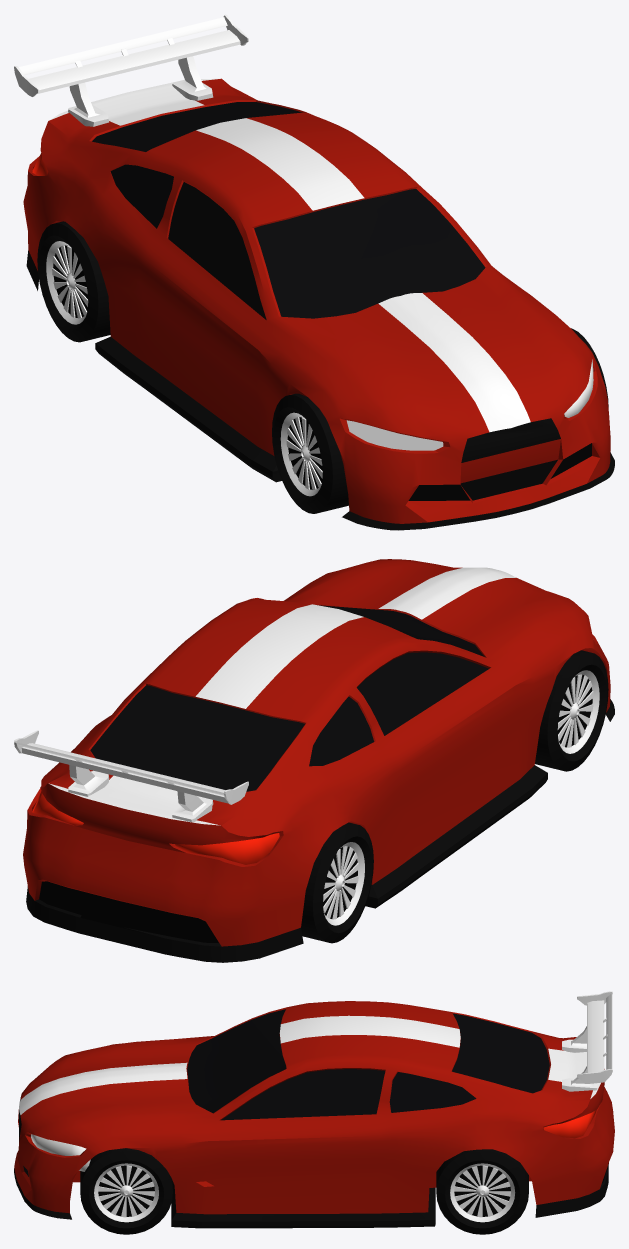
File: m4 ezgi (1).fbx
3 renders of one model, top to bottom at view 1: azimuth 30°, elevation 25°; view 2: azimuth 150°, elevation 25°; view 3: azimuth 270°, elevation 25°, orthographic. The views are drawn at different scales.
Visible parts, largest first — view 1: Cube.001, Cylinder.002, Cylinder.001; view 2: Cube.001, Cylinder.001, Cylinder.002; view 3: Cube.001, Cylinder.004, Cylinder.003.
Part boxes in pixels (<box>): Cube.001: <box>14,14,614,530</box>; Cylinder.002: <box>272,393,348,513</box>; Cylinder.001: <box>37,221,110,342</box>; Cube.001: <box>14,559,614,962</box>; Cylinder.001: <box>301,822,373,943</box>; Cylinder.002: <box>535,650,608,771</box>; Cube.001: <box>14,991,614,1228</box>; Cylinder.004: <box>436,1149,528,1234</box>; Cylinder.003: <box>80,1148,172,1234</box>.
Size of the model in its own units: 409 by 288 by 985.
Materials: 3 (3 with a texture image).
